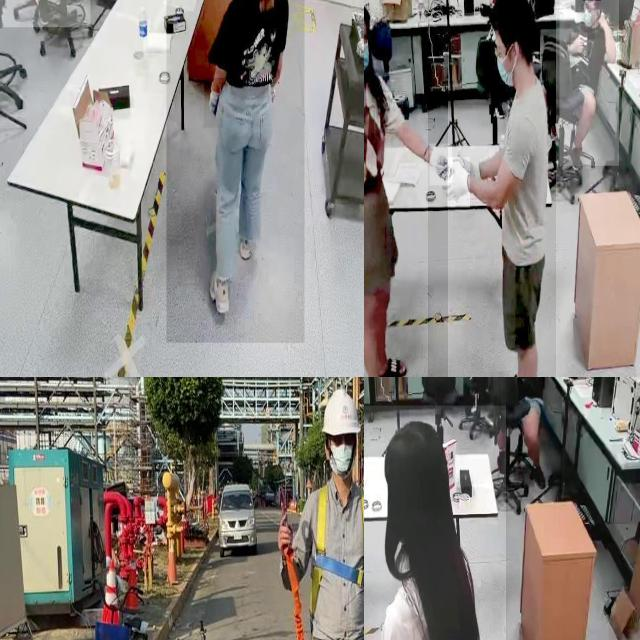Harness: (312, 485, 364, 616), (283, 550, 306, 640)
face_mask: (498, 46, 514, 96), (581, 4, 595, 40), (364, 35, 371, 83)
hand_glove: (454, 142, 484, 186), (447, 157, 471, 208), (204, 78, 223, 128), (430, 144, 452, 186)
hand_noglove: (571, 32, 588, 54), (596, 11, 606, 25)
head_nohelmet: (381, 418, 449, 470), (489, 0, 535, 23)
person: (427, 0, 556, 377), (166, 0, 305, 343), (364, 405, 506, 640), (364, 0, 448, 377), (559, 0, 619, 166), (505, 377, 562, 493)
shoes: (207, 264, 230, 318), (238, 218, 258, 260), (31, 0, 53, 28)
